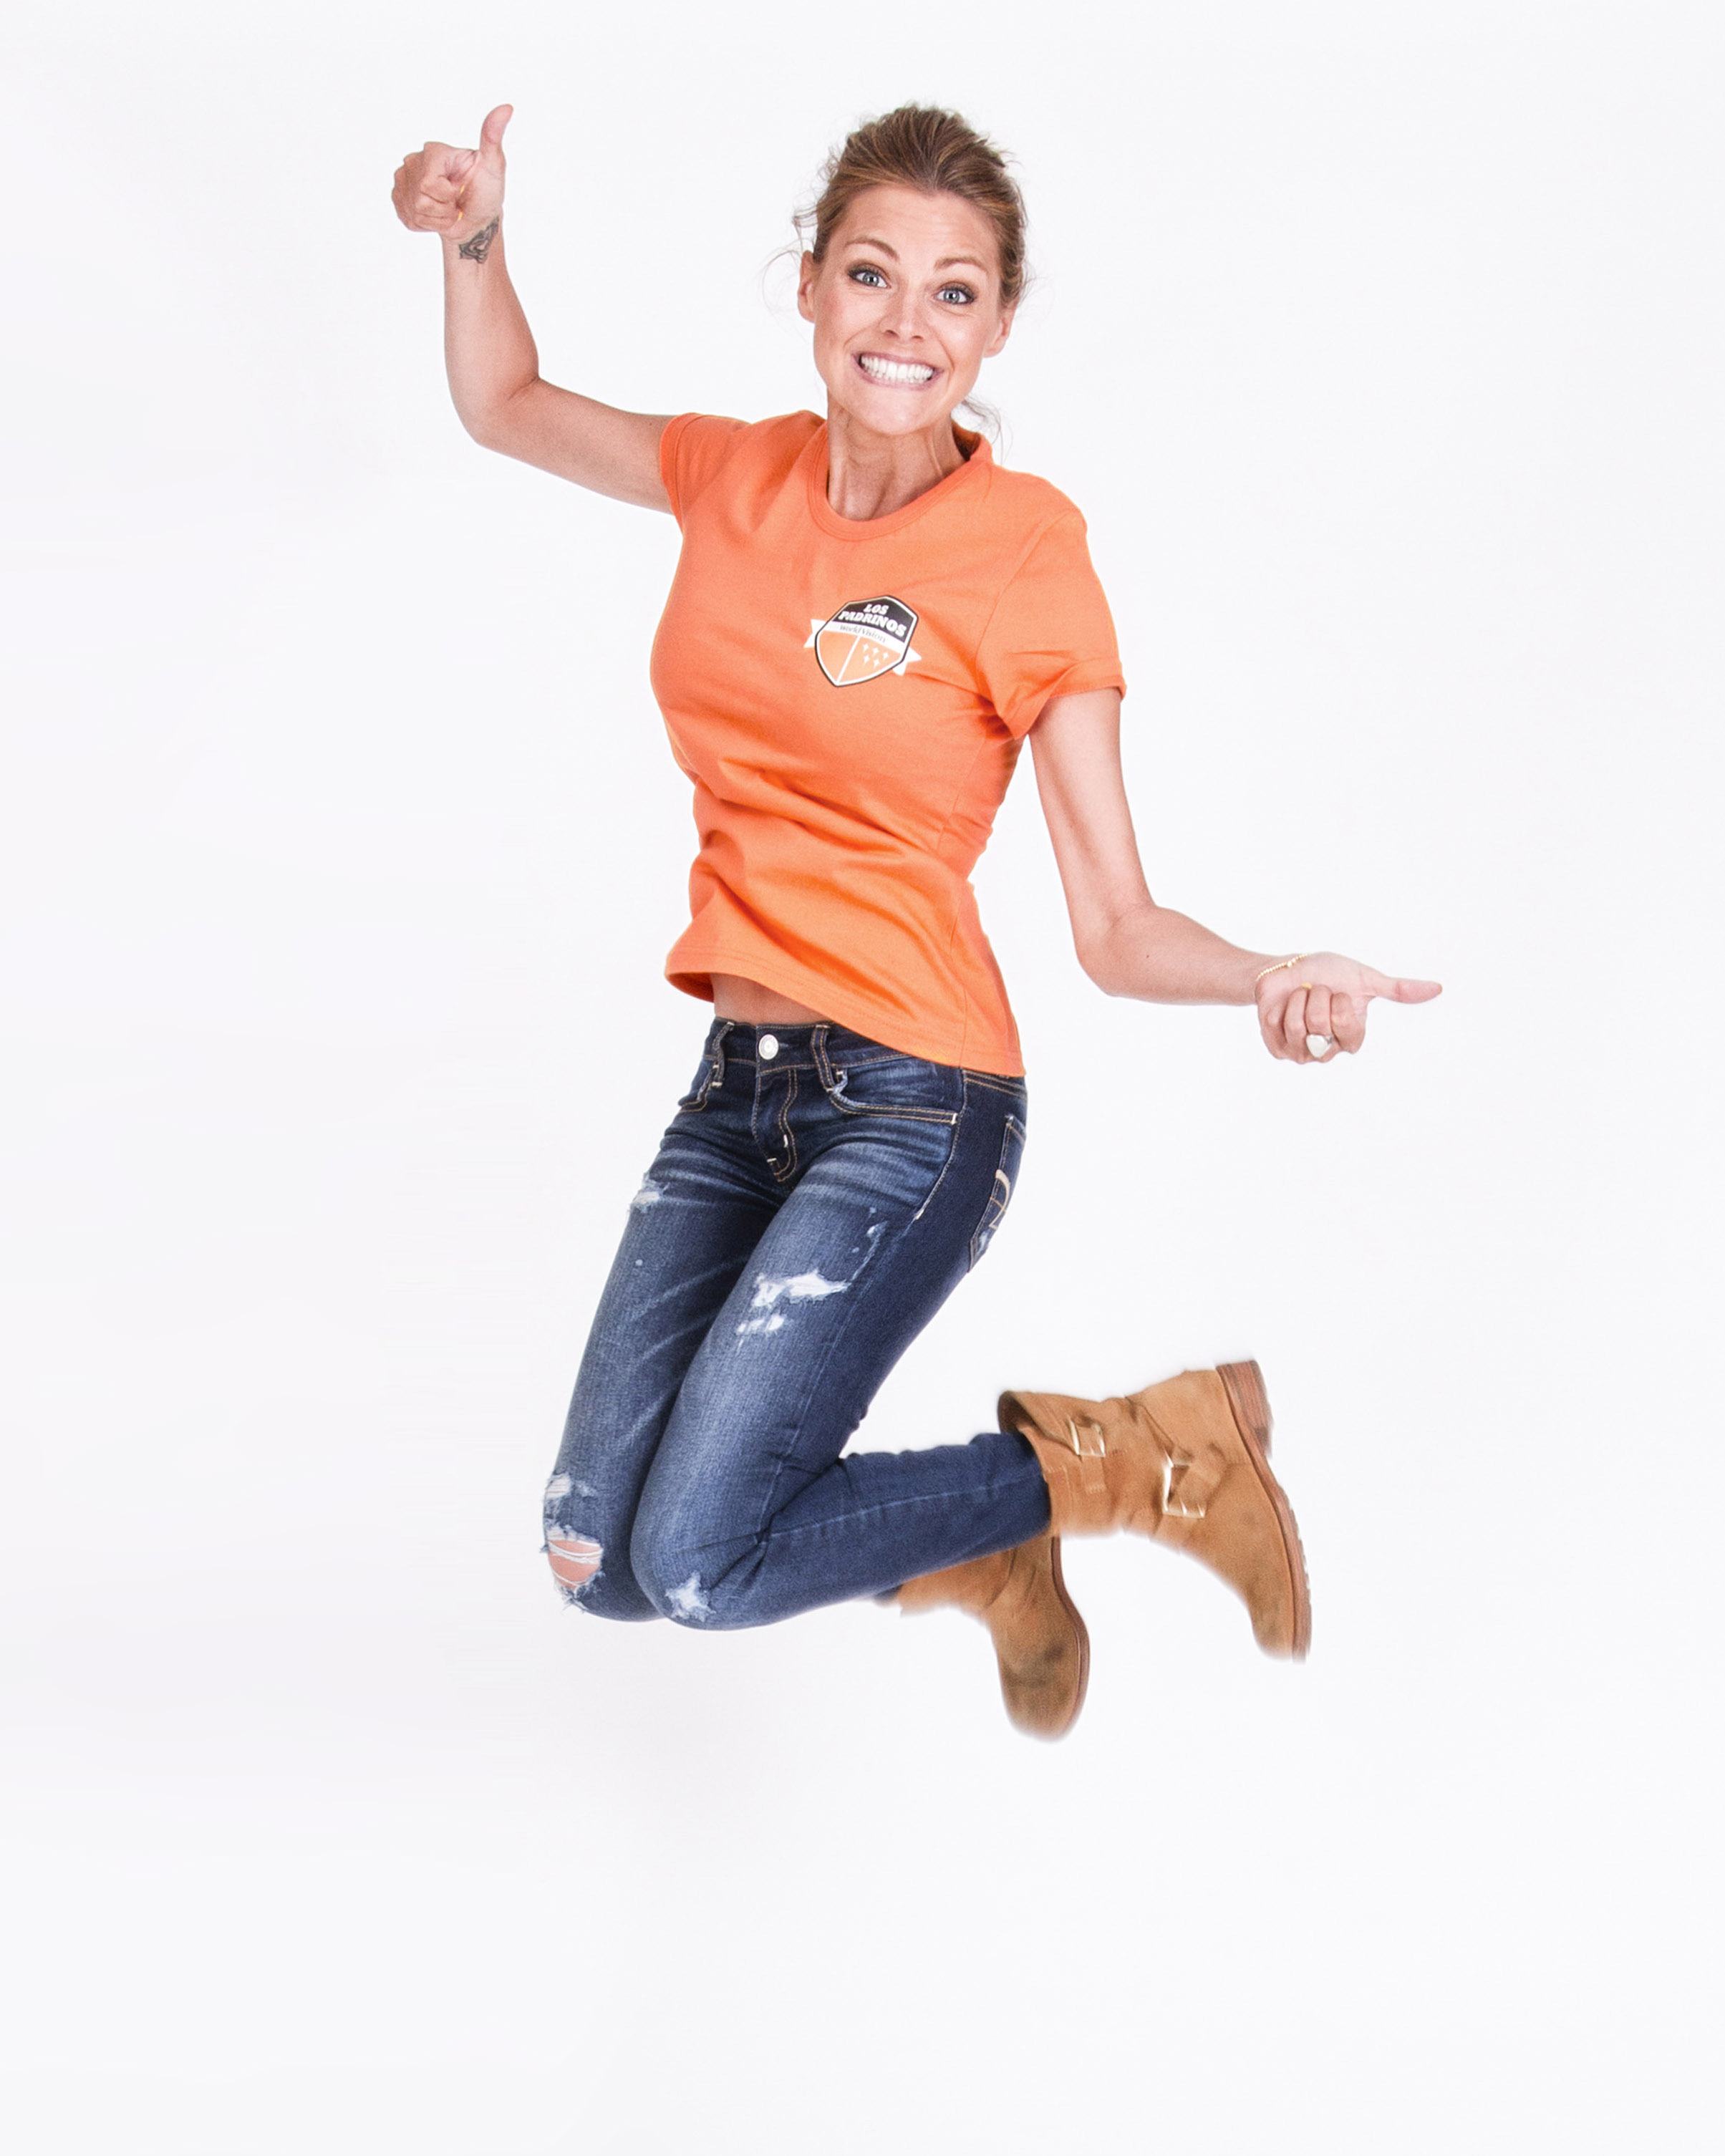person: (698, 140, 1118, 717)
